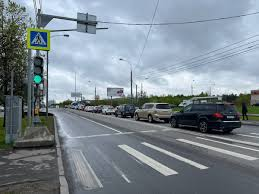tl: (32, 55, 44, 84)
